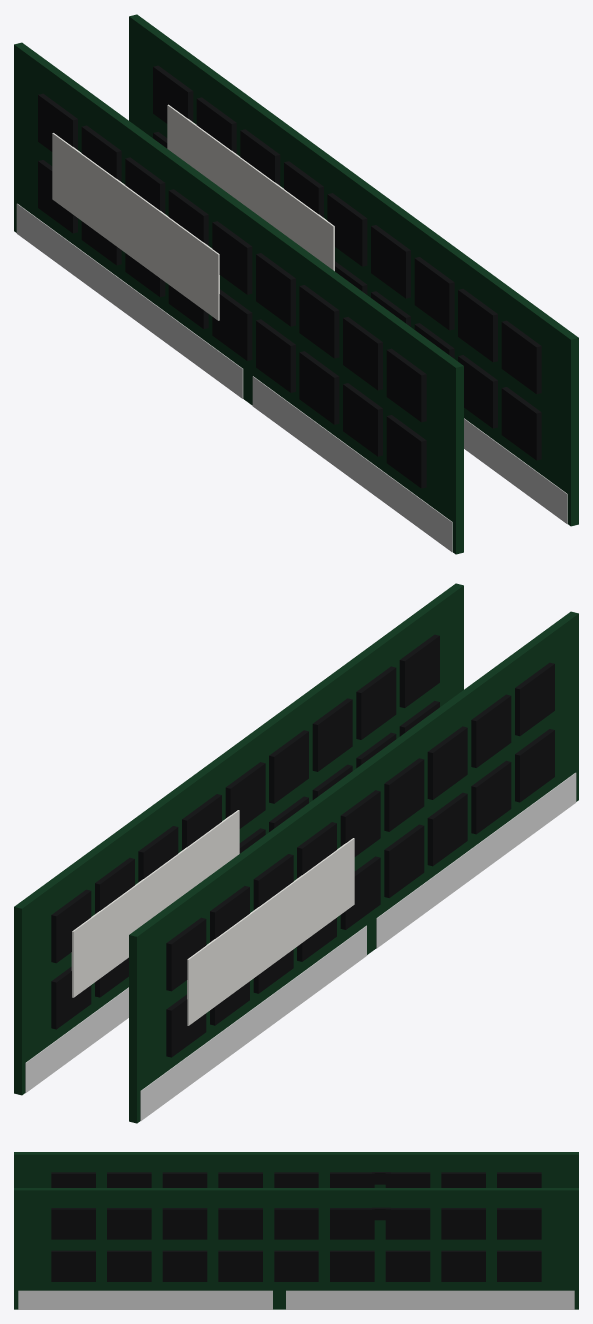
File: hw_ram_ddr3_96gb.glb
The picture shows the model from 3 angles, top to bottom: view 1: azimuth 30°, elevation 25°; view 2: azimuth 150°, elevation 25°; view 3: azimuth 270°, elevation 25°; orthographic projection. The views are drawn at different scales.
Parts seen in each view (by area): view 1: Stick_1, Body; view 2: Stick_1, Body; view 3: Body, Stick_1.
Boxes of the visible parts, bbox=[...] form: Stick_1: bbox=[14, 42, 463, 554]; Body: bbox=[129, 14, 578, 526]; Stick_1: bbox=[129, 611, 578, 1123]; Body: bbox=[14, 583, 463, 1095]; Body: bbox=[14, 1188, 578, 1309]; Stick_1: bbox=[14, 1152, 578, 1187].
Size of the model in its own units: 0.0234 by 0.031 by 0.133.
